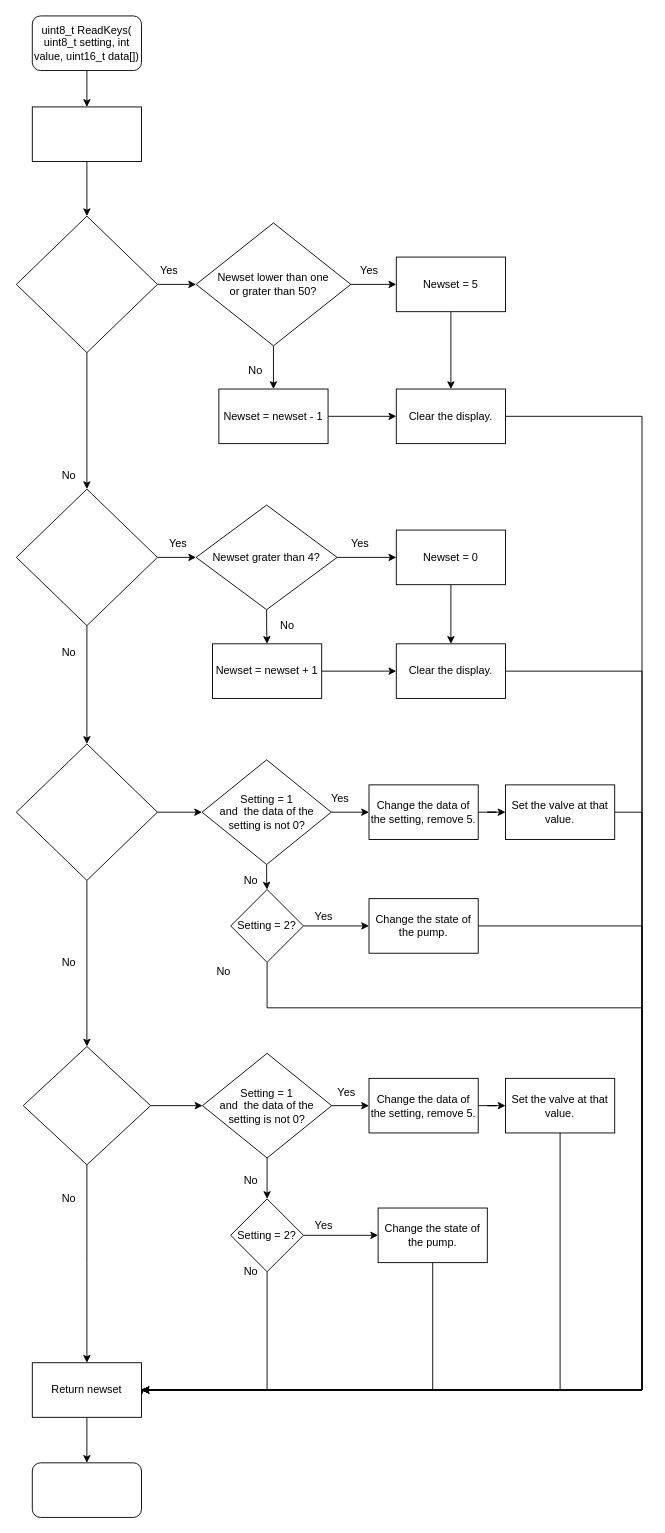
This 665x1533 diagram has some shape labels left out. Each missing label, with the centre of its shape:
"Define setting as newset." belongs at (86,134).
"END" belongs at (86,1489).
"Value gratter than 200 and lower than 300?" belongs at (86,557).
"Value gratter than 390 and lower than 430?" belongs at (86,811).
"Value gratter than 80 and lower than 120?" belongs at (86,284).
"Value lower than 80?" belongs at (86,1105).
